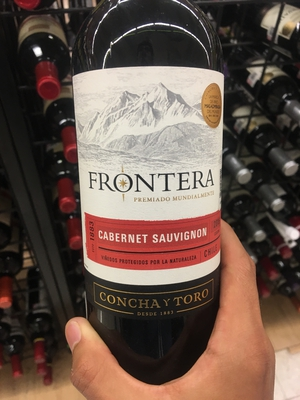frontera cabernet sauvignon: (69, 11, 245, 379)
